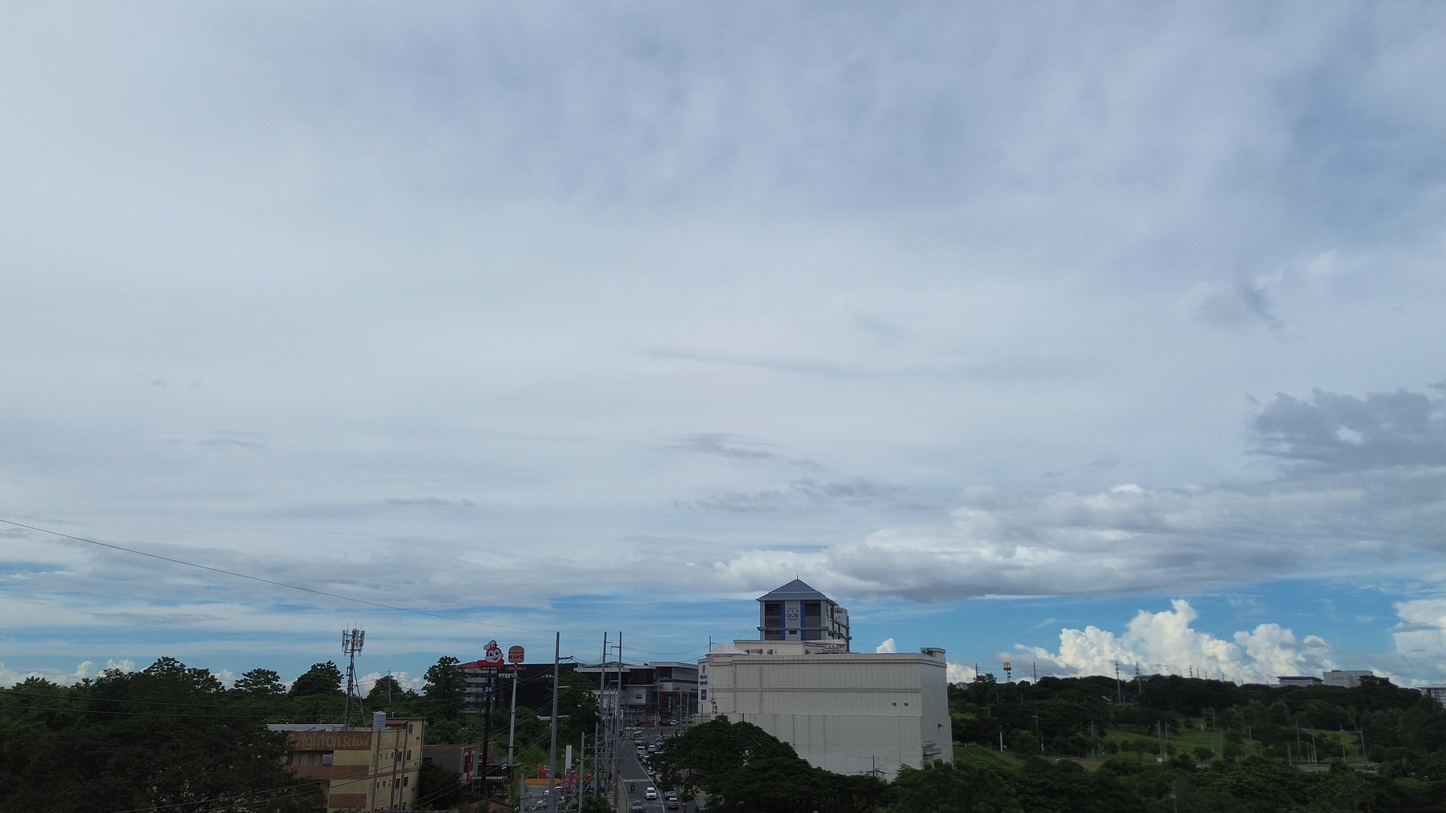car: (644, 786, 658, 800), (630, 800, 645, 813)
